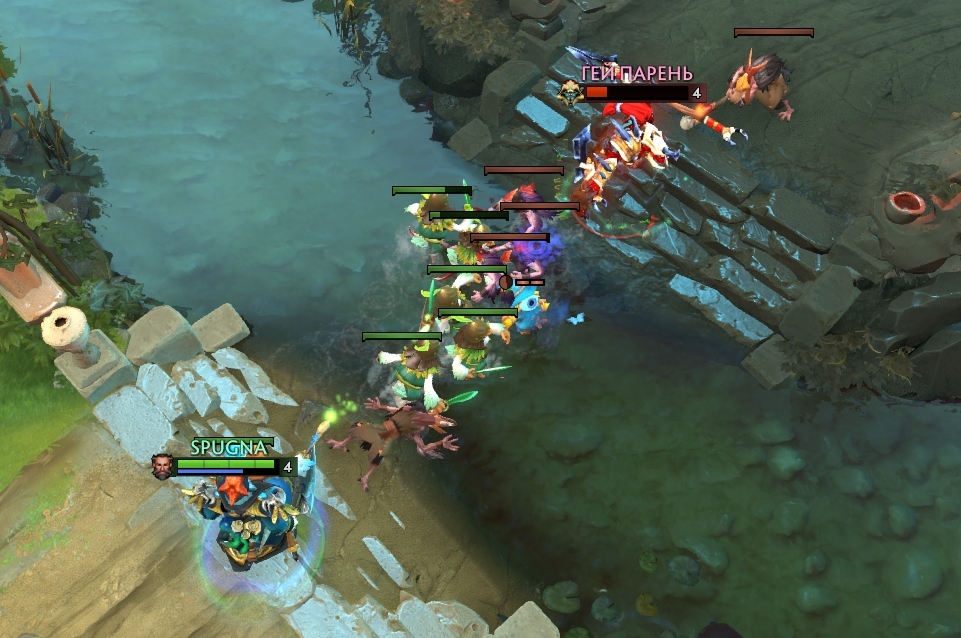allyCreep: (188, 430, 282, 450), (419, 259, 514, 277), (429, 305, 526, 320), (387, 181, 476, 196), (422, 209, 514, 222), (359, 330, 448, 343)
enemyCreep: (496, 195, 584, 211), (479, 163, 568, 178), (466, 230, 554, 245), (731, 26, 815, 38)
